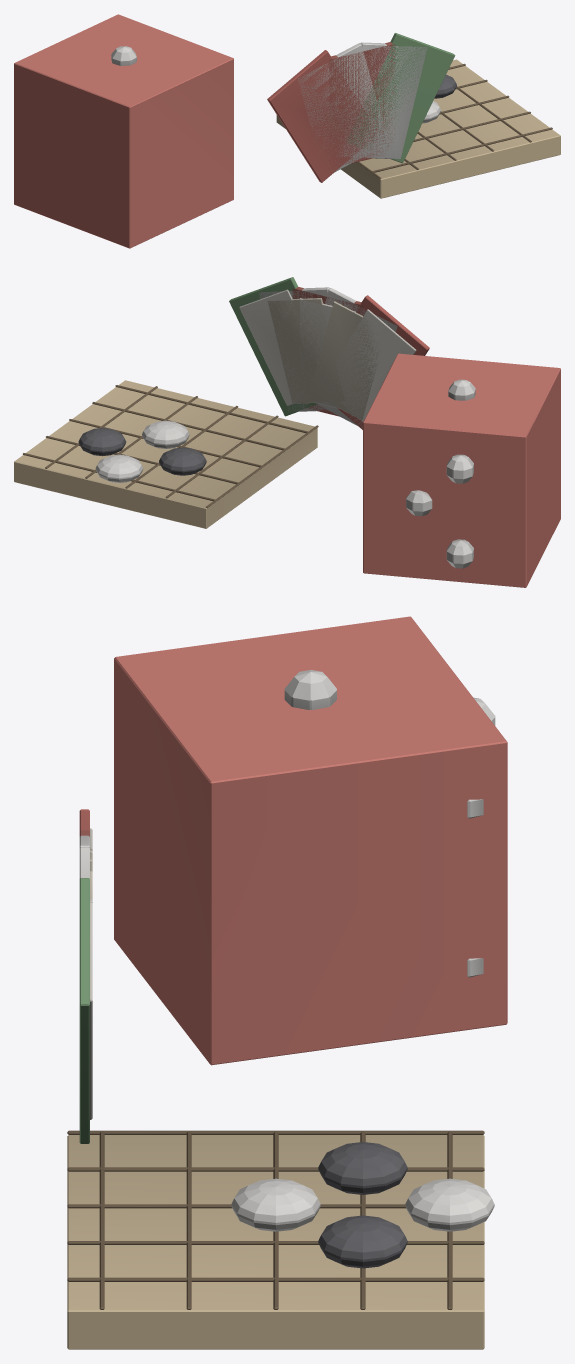
The model's file is games_roof.glb.
3 renders of one model, top to bottom at view 1: azimuth 30°, elevation 25°; view 2: azimuth 150°, elevation 25°; view 3: azimuth 270°, elevation 25°, orthographic. The views are drawn at different scales.
Bounding box in the file's own units: 6.13 × 2 × 2.53.
